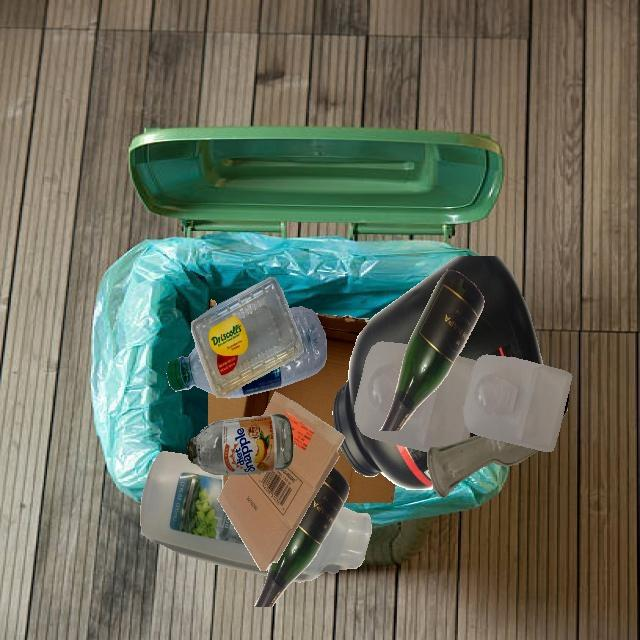cardboard: (217, 391, 345, 571), (213, 391, 395, 484)
glass: (380, 269, 484, 431), (254, 467, 349, 607), (427, 435, 539, 498), (186, 414, 293, 475), (562, 389, 569, 417)
plastic: (333, 256, 543, 490), (140, 451, 269, 575), (191, 277, 304, 398), (354, 342, 477, 452), (463, 355, 572, 452), (223, 306, 327, 398), (293, 506, 371, 582), (166, 346, 215, 395)
